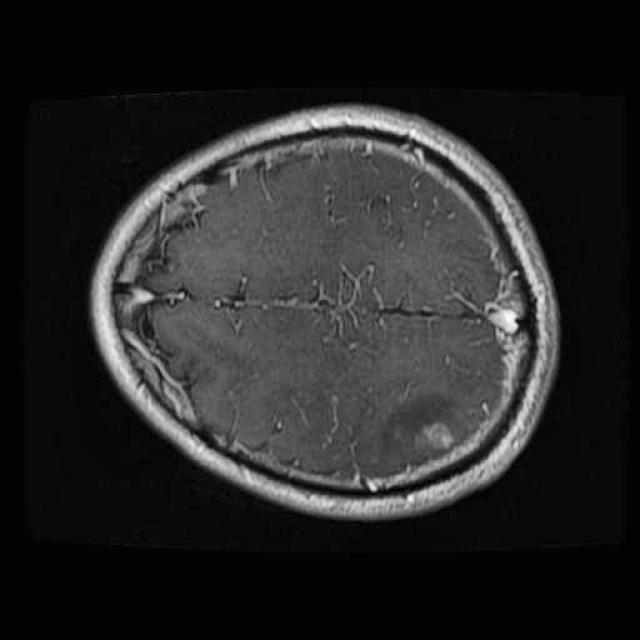Non-Tumor: (370, 376, 466, 471)
